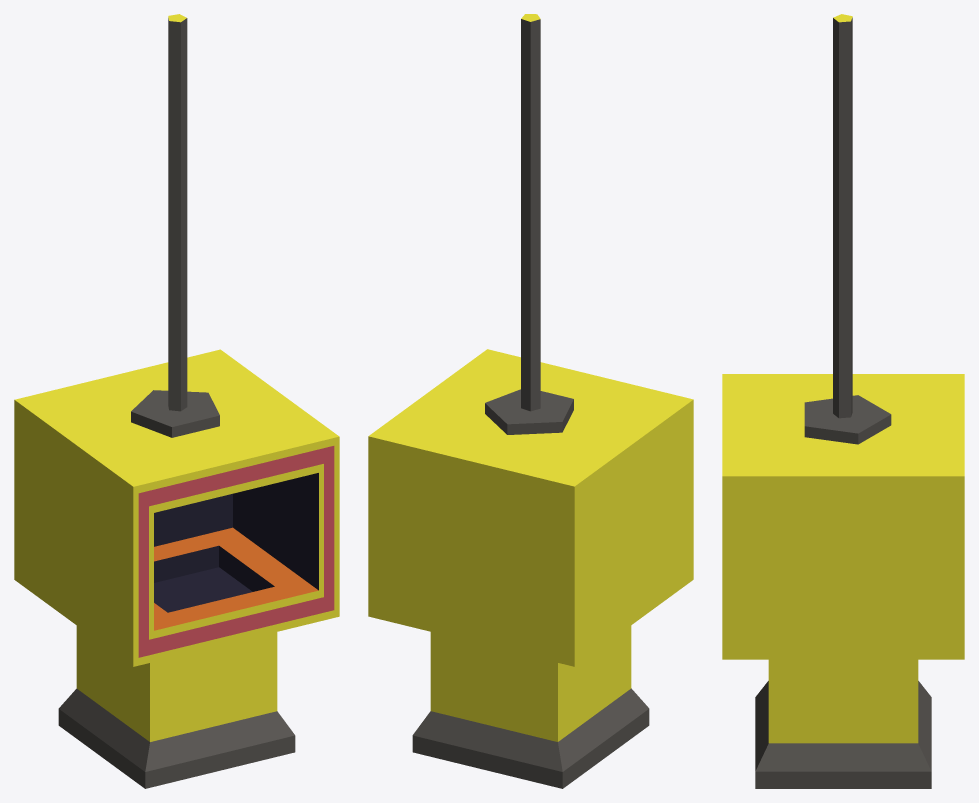
File: questgiver.fbx
3 renders of one model, left to right at view 1: azimuth 30°, elevation 25°; view 2: azimuth 150°, elevation 25°; view 3: azimuth 270°, elevation 25°, orthographic.
Parts seen in each view (by area): view 1: QuestGiver; view 2: QuestGiver; view 3: QuestGiver.
Boxes of the visible parts, bbox=[...] form: QuestGiver: bbox=[14, 14, 339, 788]; QuestGiver: bbox=[368, 14, 693, 788]; QuestGiver: bbox=[722, 14, 964, 788].
Size of the model in its own units: 111 by 369 by 111.
